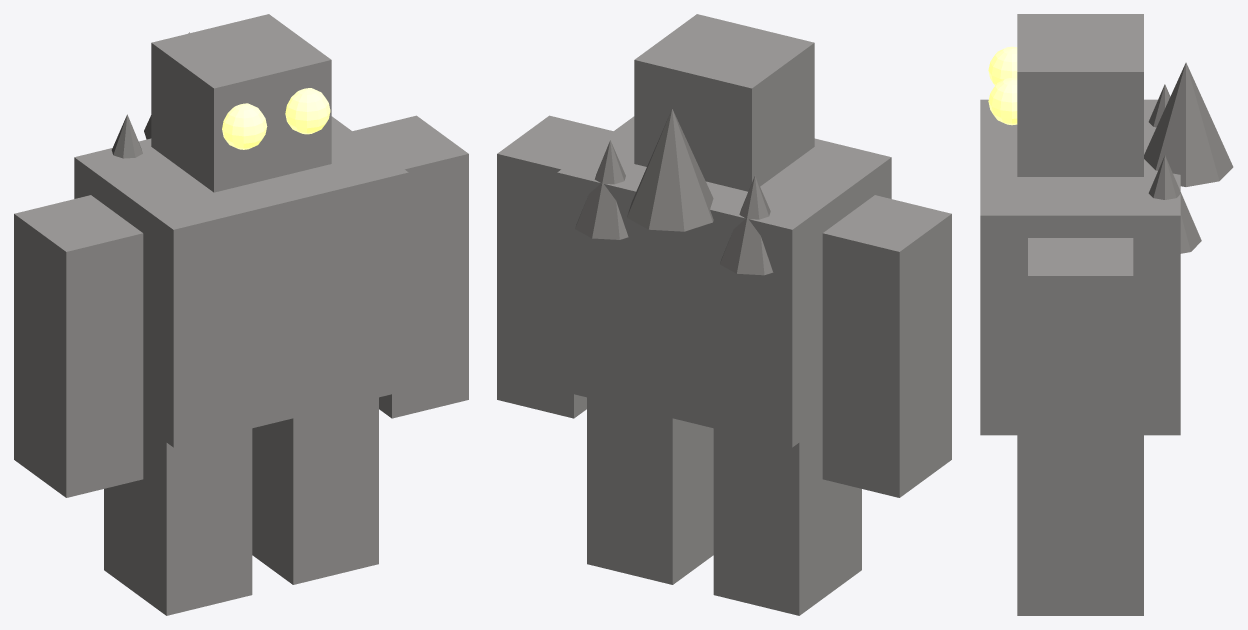
The model's file is creature_golem_stone.glb.
3 views of the same model, side by side, from view 1: azimuth 30°, elevation 25°; view 2: azimuth 150°, elevation 25°; view 3: azimuth 270°, elevation 25° (orthographic).
Parts seen in each view (by area): view 1: creature_golem_stone; view 2: creature_golem_stone; view 3: creature_golem_stone.
Boxes of the visible parts, <box> form: creature_golem_stone: <box>14,14,468,615</box>; creature_golem_stone: <box>497,14,951,615</box>; creature_golem_stone: <box>980,14,1233,615</box>.
Size of the model in its own units: 0.8165 by 1 by 0.4404.
